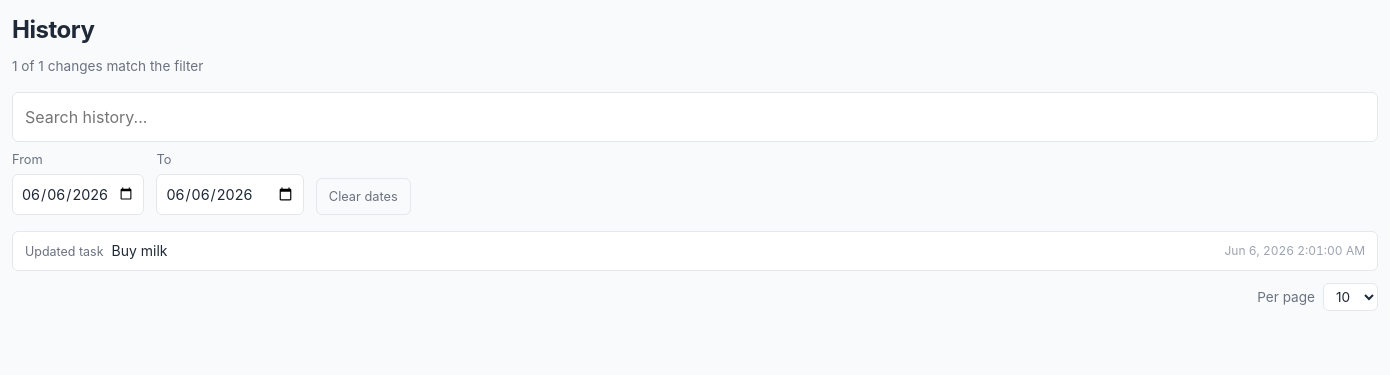
Scenario: HistoryView — search + pagination › reports no matches for a query that hits nothing
Step 1. Type "zzz" into the field labelled "Search history..." → (695, 117), box [12,92,1378,142]
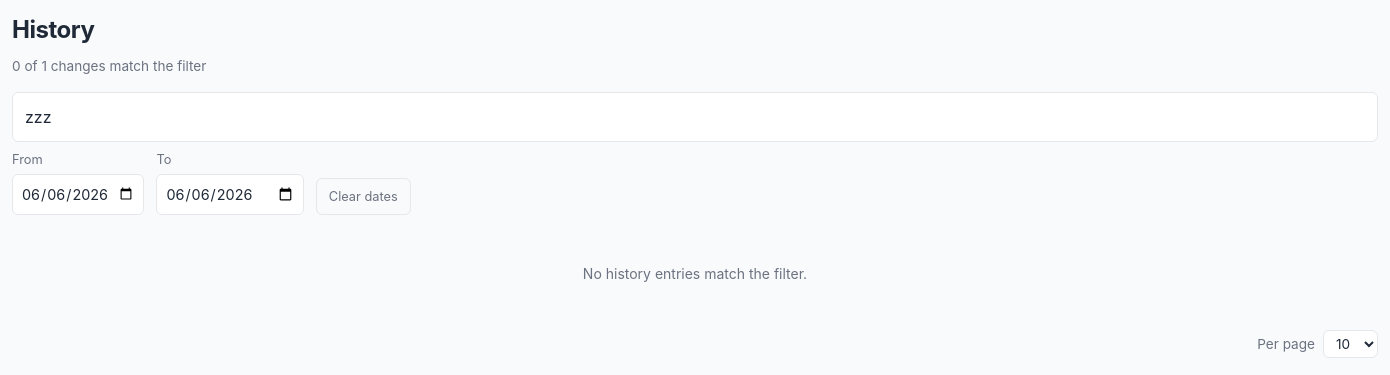
Now the text "No history entries match the filter." is shown, box [583,265,807,282]
